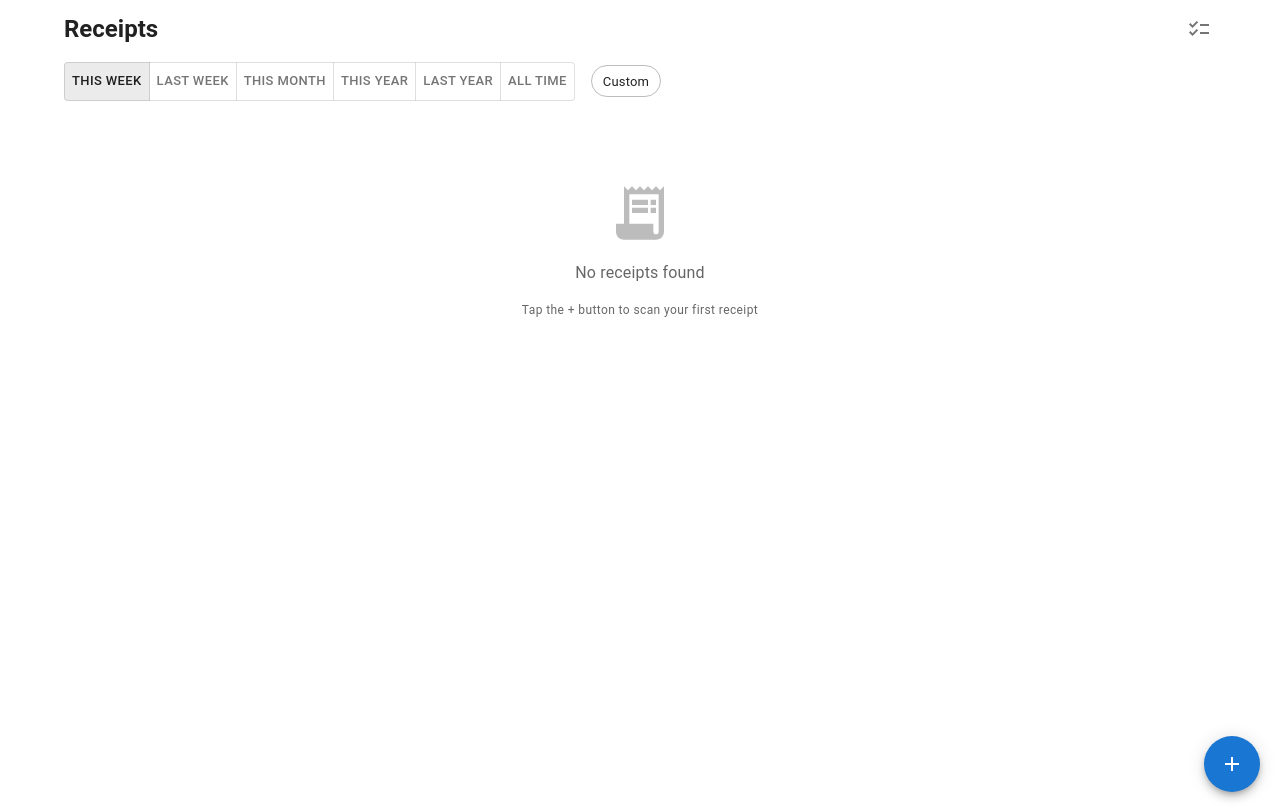
Test: Receipts page › toggles selection mode on checklist icon click
This screenshot has width=1280, height=812.
Click the button with test id "ChecklistIcon". click: (1199, 29)
box: [1182, 12, 1216, 46]
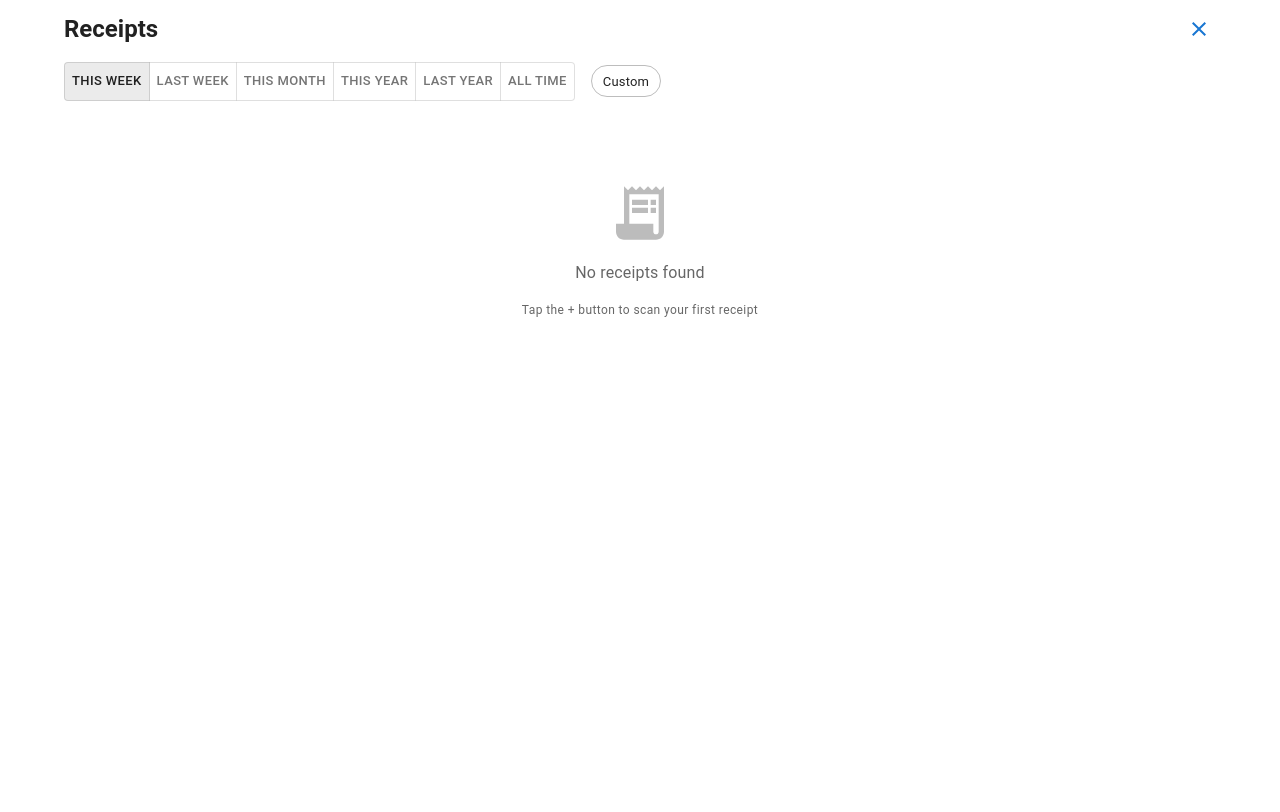
expect the icon with test id "CloseIcon" is shown: met, box [1187, 17, 1211, 41]
Click the button with test id "ChecklistIcon". click: (1199, 29)
box: [1182, 12, 1216, 46]
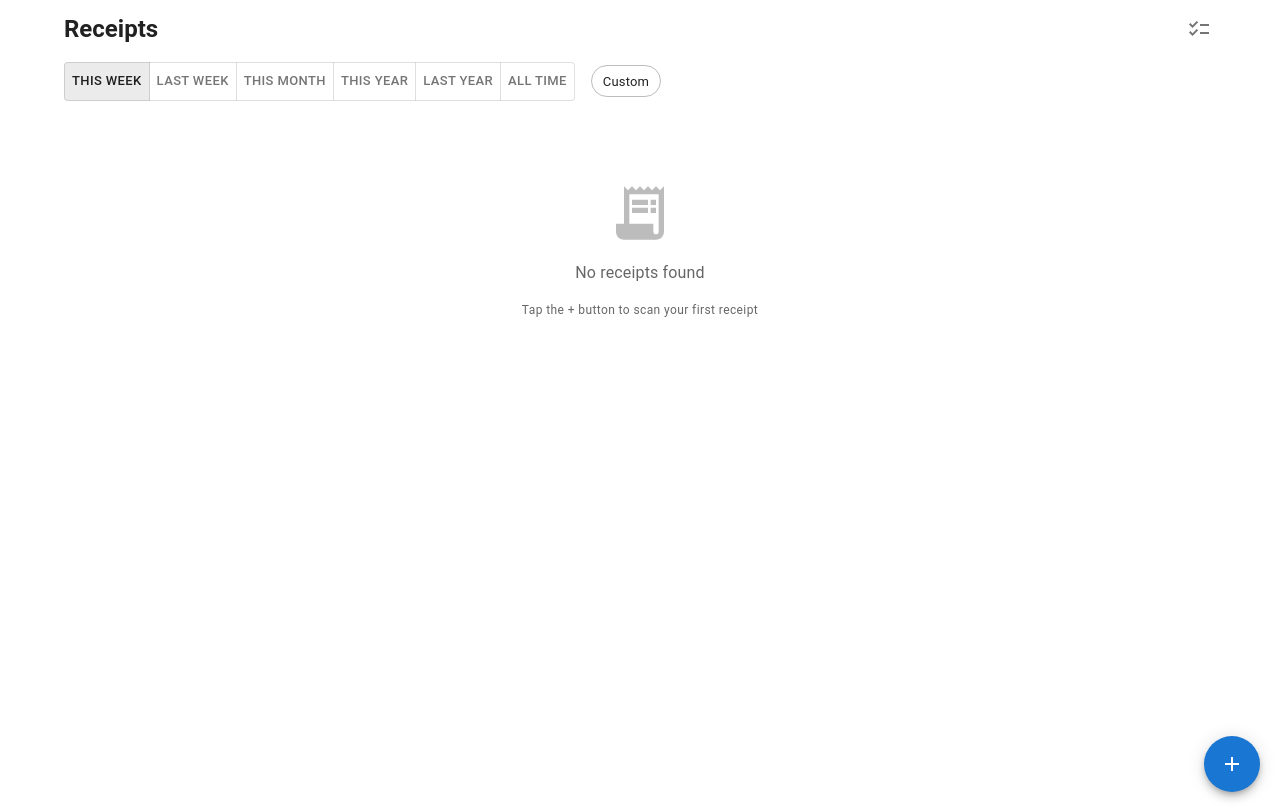
expect the icon with test id "ChecklistIcon" is shown: met, box [1187, 17, 1211, 41]
